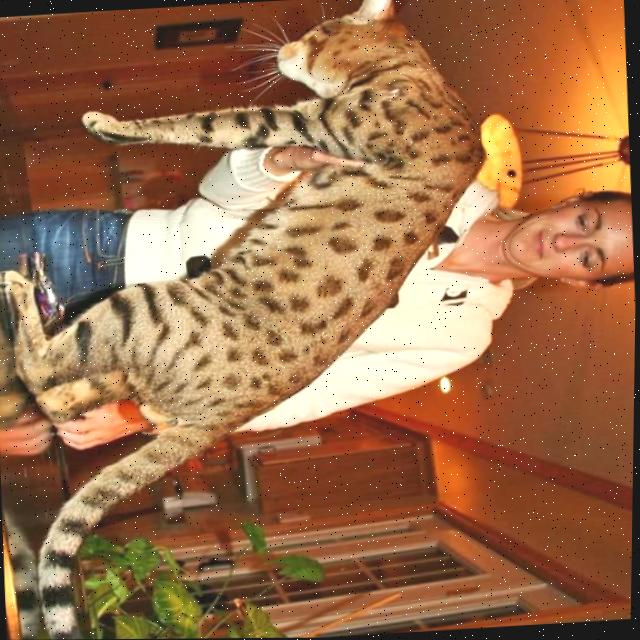Savannah: (0, 0, 520, 640)
